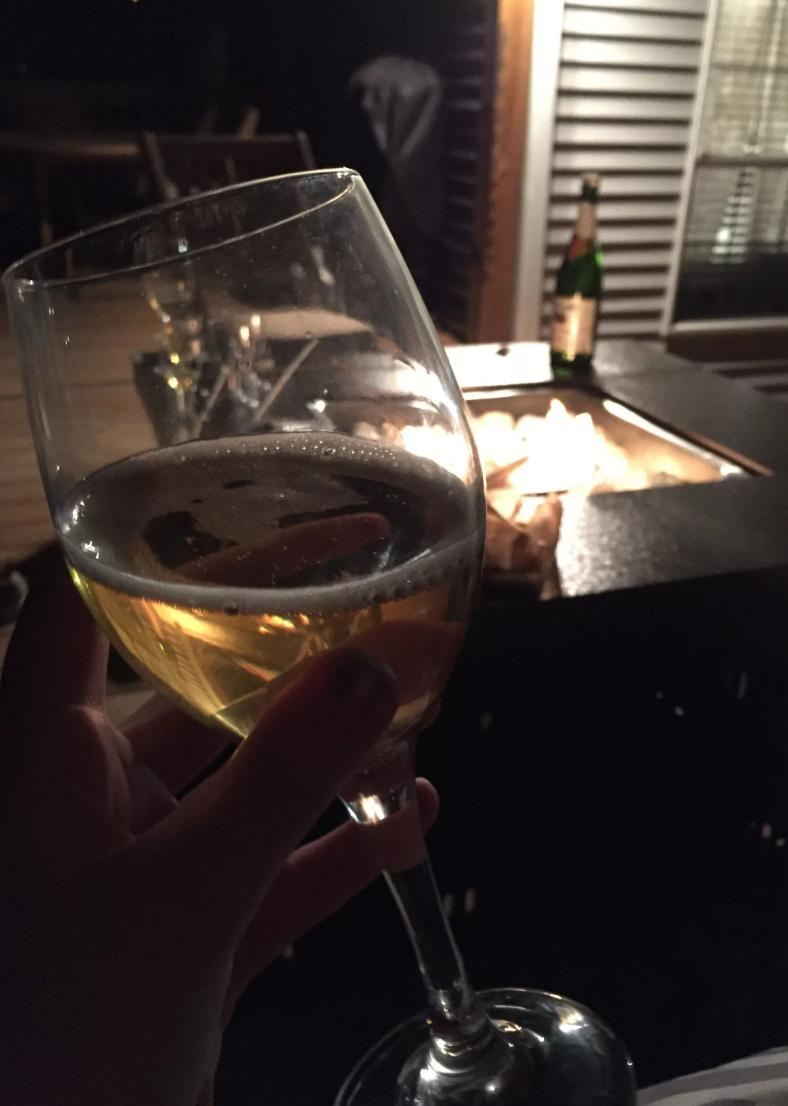wine bottle: (549, 175, 603, 376)
wine label: (552, 292, 598, 356)
